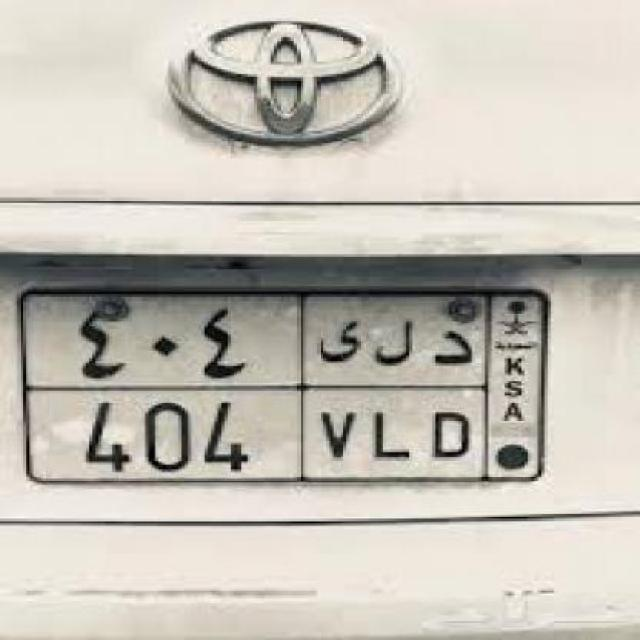license_plate: (13, 285, 555, 486)
